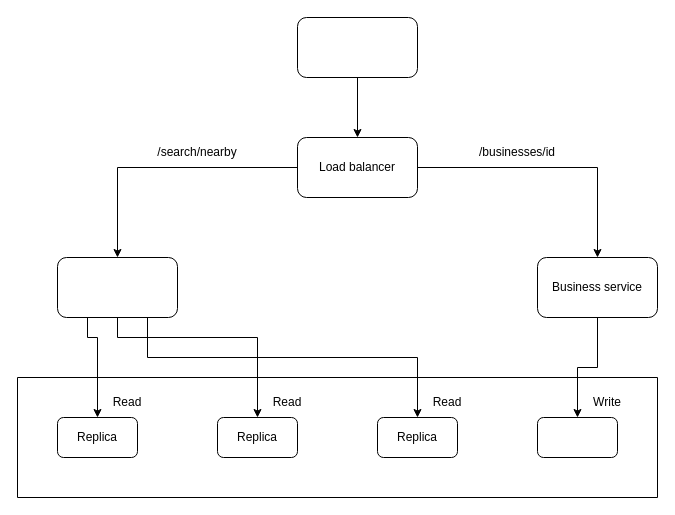
This 675x515 diagram has some shape labels left out. Each missing label, with the centre of its shape:
"Location based service" belongs at (x=117, y=287).
"Primary" belongs at (x=577, y=437).
"User" belongs at (x=357, y=47).
